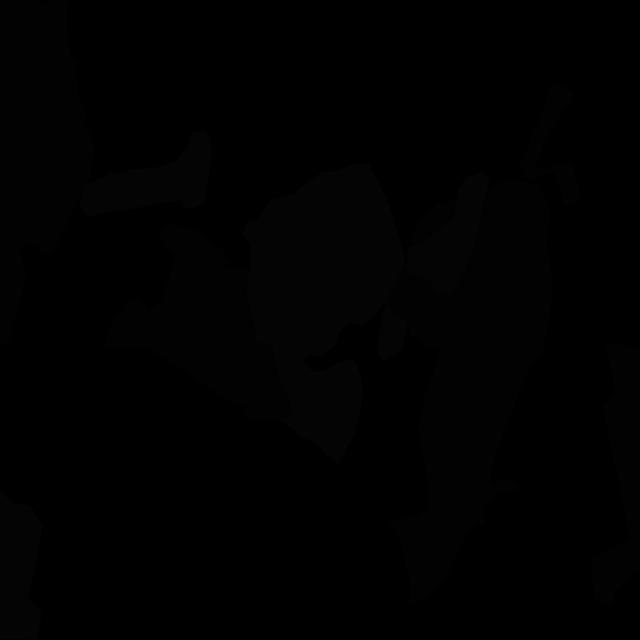cardboard: (386, 179, 552, 606), (105, 224, 292, 422), (0, 0, 96, 345), (591, 340, 640, 605), (520, 80, 580, 205), (409, 200, 456, 246)
soft_plastic: (243, 163, 406, 464), (79, 131, 212, 217), (406, 173, 490, 295), (0, 490, 42, 640), (377, 303, 407, 362)
